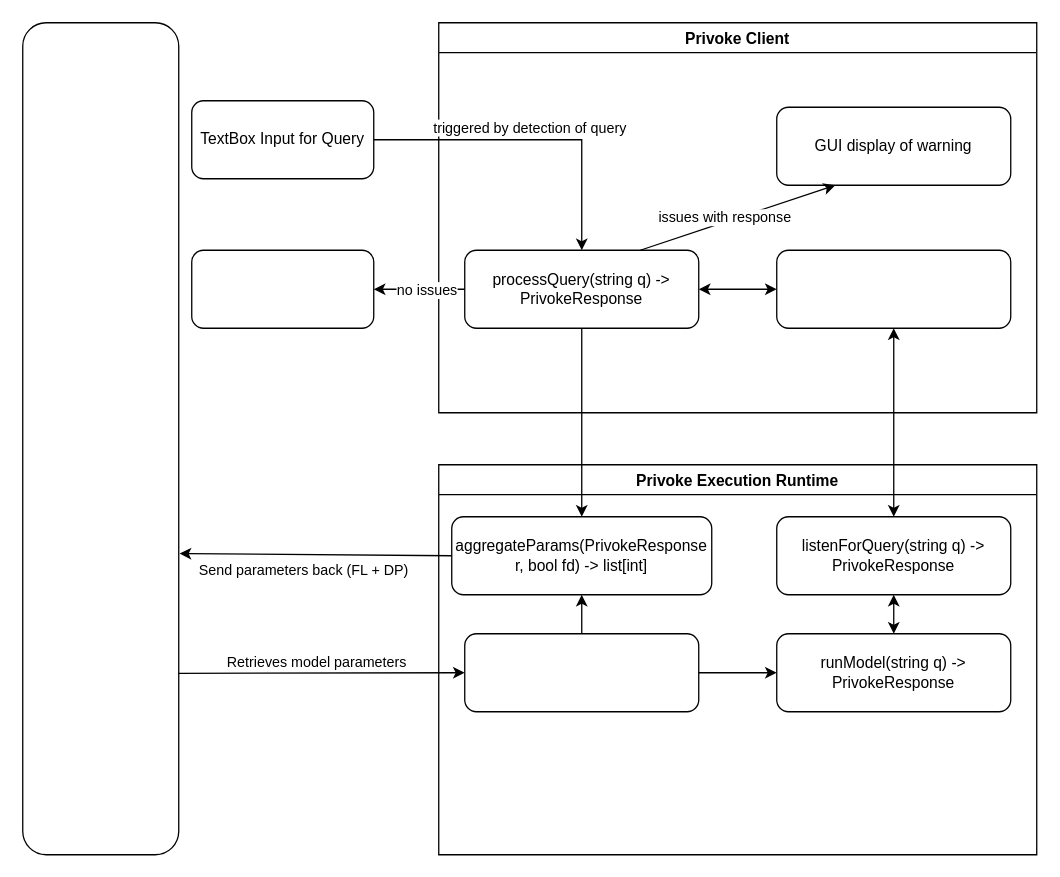
The diagram is 1060 pixels wide and 877 high, and some of its shapes have lost their labels. Each missing label, with the centre of its shape:
"getModel() -> PrivokeModel" belongs at point (581, 672).
"getResponse(string q) -> PrivokeResponse" belongs at point (893, 288).
"Privoke Model Manager Servers" belongs at point (100, 438).
"TextBox output" belongs at point (282, 288).
